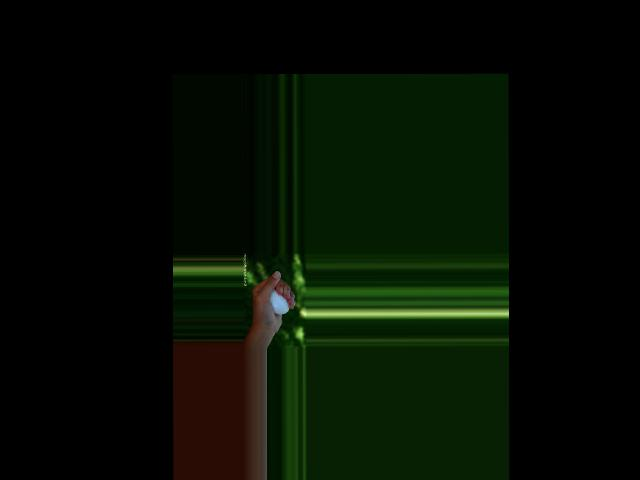egg: (270, 288, 289, 314)
